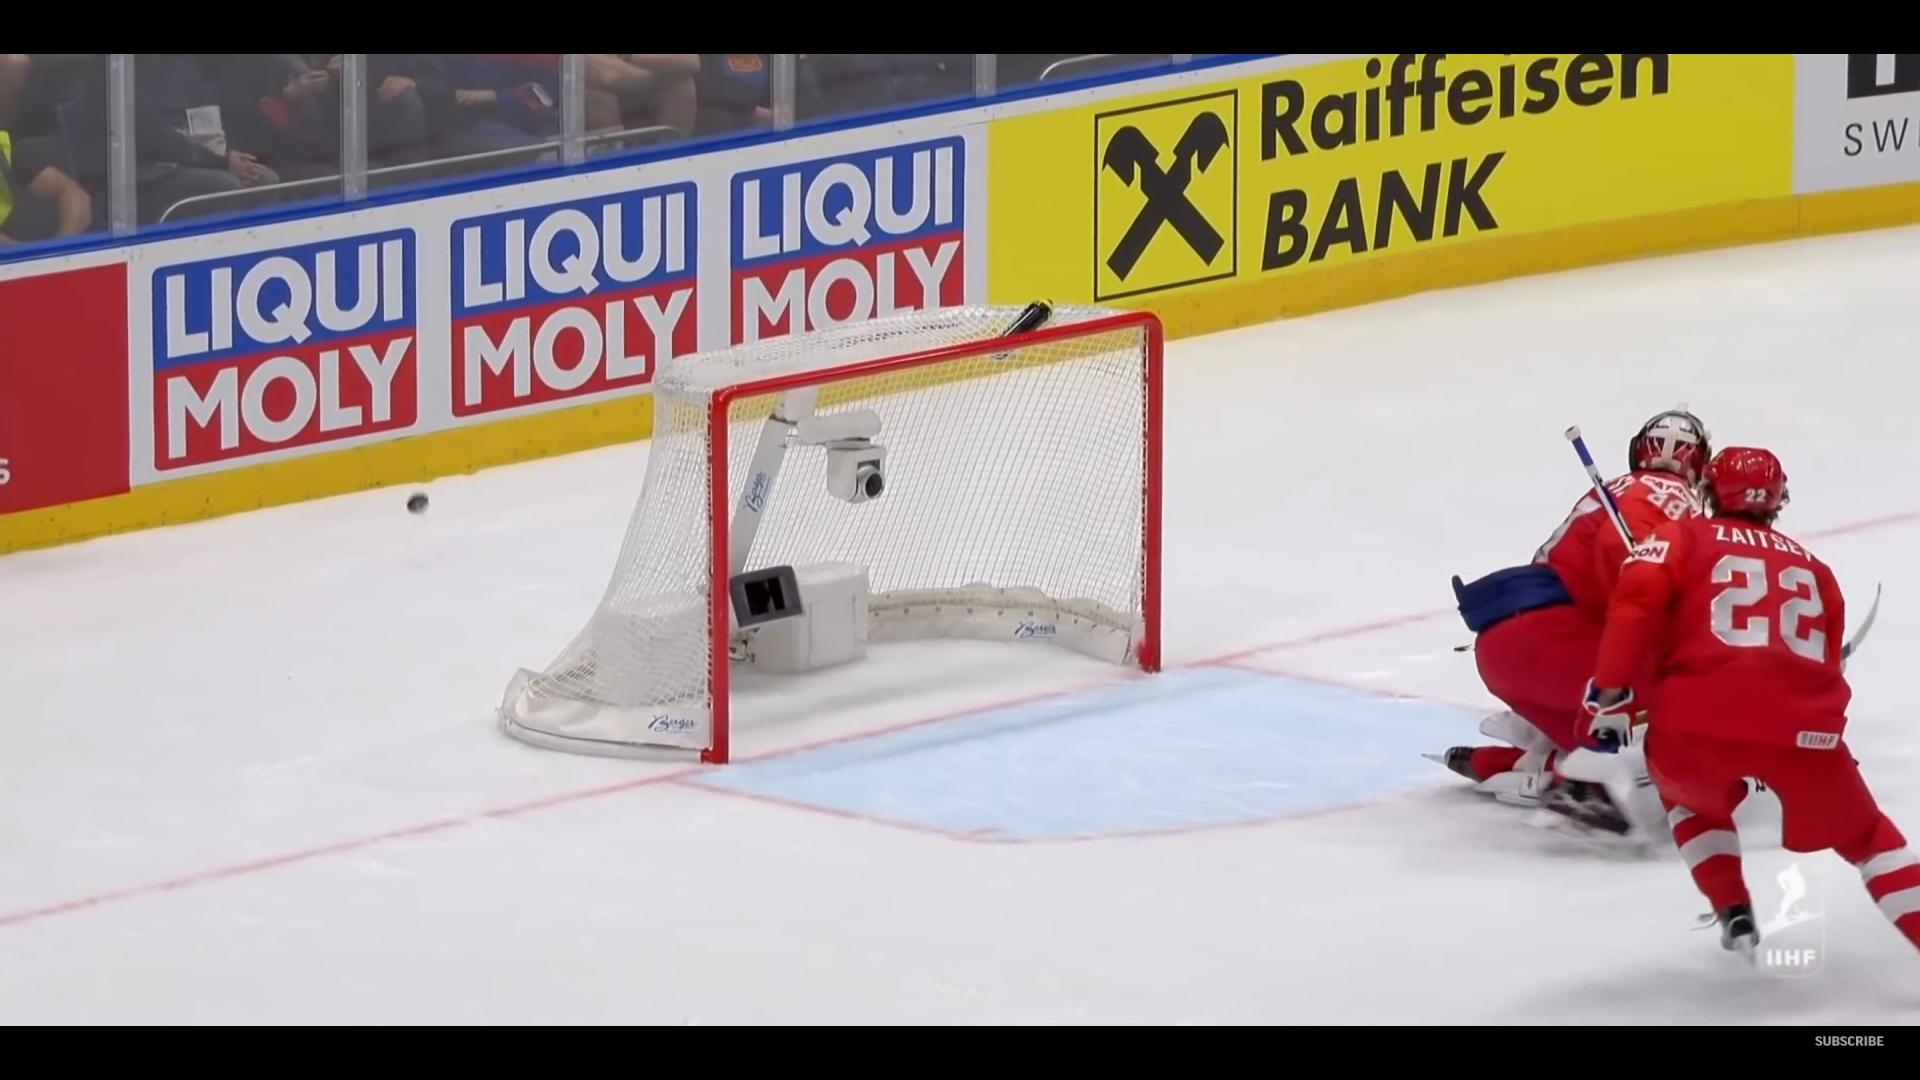puck: (404, 493, 427, 512)
